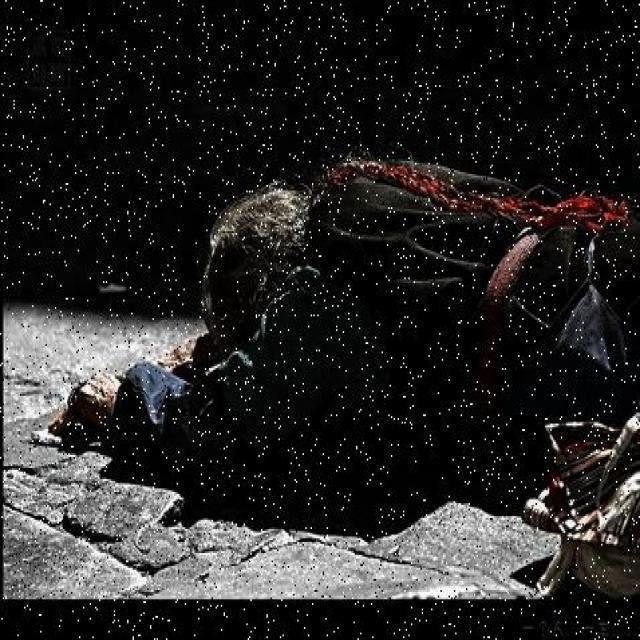fall: (70, 166, 634, 454)
